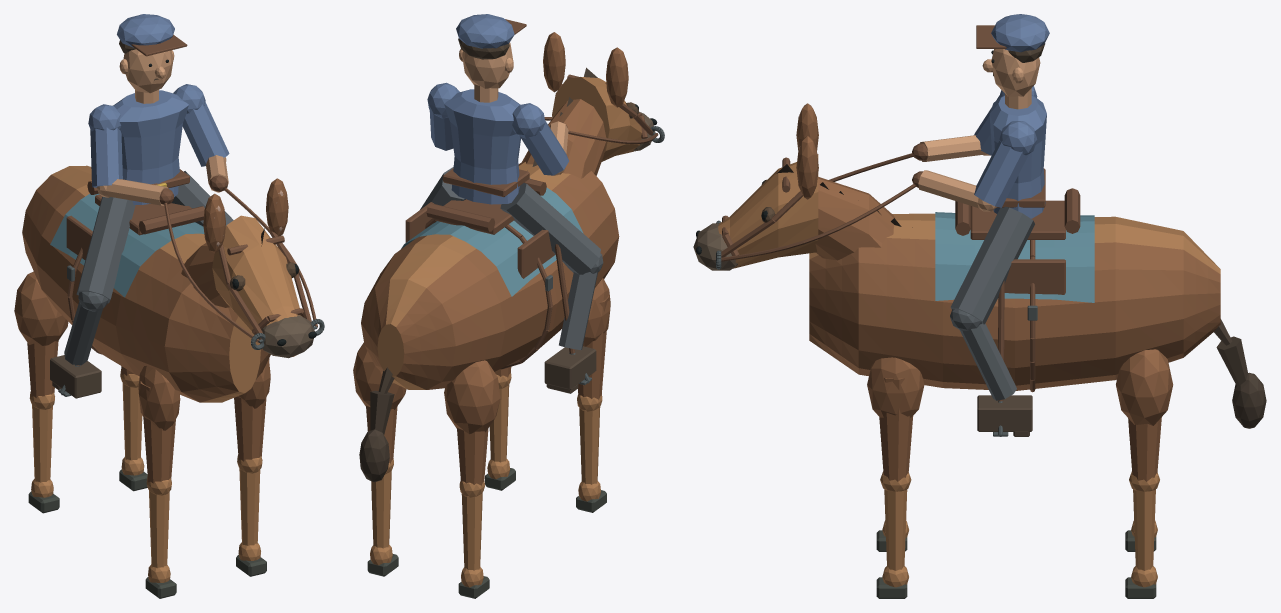
Rendered from rider.glb.
The picture shows the model from 3 angles, left to right: view 1: azimuth 30°, elevation 25°; view 2: azimuth 150°, elevation 25°; view 3: azimuth 270°, elevation 25°; orthographic projection. The views are drawn at different scales.
Visible parts, largest first — view 1: Body_mesh, SeatedTorso_mesh, Head_mesh, SeatedPerson_mesh, UpperLeg.002_mesh, UpperLeg_mesh, UpperLeg.001_mesh, LowerLeg.001_mesh, LowerLeg.002_mesh, LowerLeg_mesh, LowerLeg.003_mesh, Ear_mesh (+7 smaller); view 2: Body_mesh, SeatedTorso_mesh, SeatedPerson_mesh, Head_mesh, UpperLeg.002_mesh, Tail_mesh, UpperLeg_mesh, UpperLeg.003_mesh, LowerLeg_mesh, LowerLeg.002_mesh, LowerLeg.003_mesh, LowerLeg.001_mesh (+2 smaller); view 3: Body_mesh, SeatedTorso_mesh, Head_mesh, SeatedPerson_mesh, UpperLeg.003_mesh, UpperLeg.001_mesh, Tail_mesh, LowerLeg.003_mesh, LowerLeg.001_mesh, Ear.001_mesh, FlexibleHarness.001_mesh.
Boxes of the visible parts, box(x1,y1,x2,y2) form: Body_mesh: box(22, 165, 270, 402); SeatedTorso_mesh: box(88, 14, 229, 205); Head_mesh: box(181, 215, 324, 358); SeatedPerson_mesh: box(50, 171, 233, 398); UpperLeg.002_mesh: box(14, 271, 68, 409); UpperLeg_mesh: box(138, 366, 180, 495); UpperLeg.001_mesh: box(234, 358, 270, 473); LowerLeg.001_mesh: box(238, 468, 260, 560); LowerLeg.002_mesh: box(31, 405, 53, 497); LowerLeg_mesh: box(148, 491, 170, 582); LowerLeg.003_mesh: box(121, 383, 144, 475); Ear_mesh: box(203, 193, 225, 253); Body_mesh: box(361, 161, 619, 389); SeatedTorso_mesh: box(427, 14, 568, 204); SeatedPerson_mesh: box(420, 167, 603, 393); Head_mesh: box(521, 74, 664, 178); UpperLeg.002_mesh: box(444, 360, 500, 497); Tail_mesh: box(359, 367, 394, 482); UpperLeg_mesh: box(577, 278, 610, 411); UpperLeg.003_mesh: box(353, 342, 406, 474); LowerLeg_mesh: box(578, 406, 600, 501); LowerLeg.002_mesh: box(461, 493, 483, 587); LowerLeg.003_mesh: box(370, 470, 392, 565); LowerLeg.001_mesh: box(487, 384, 509, 479); Body_mesh: box(809, 188, 1220, 401); SeatedTorso_mesh: box(912, 14, 1049, 218); Head_mesh: box(693, 154, 895, 270); SeatedPerson_mesh: box(950, 206, 1034, 436); UpperLeg.003_mesh: box(1116, 349, 1173, 491); UpperLeg.001_mesh: box(867, 357, 924, 491); Tail_mesh: box(1214, 319, 1266, 428); LowerLeg.003_mesh: box(1131, 489, 1157, 587); LowerLeg.001_mesh: box(882, 489, 908, 587); Ear.001_mesh: box(796, 135, 818, 199); FlexibleHarness.001_mesh: box(721, 184, 915, 261).
Bounding box in the file's own units: 1.06 × 2.76 × 2.59.
